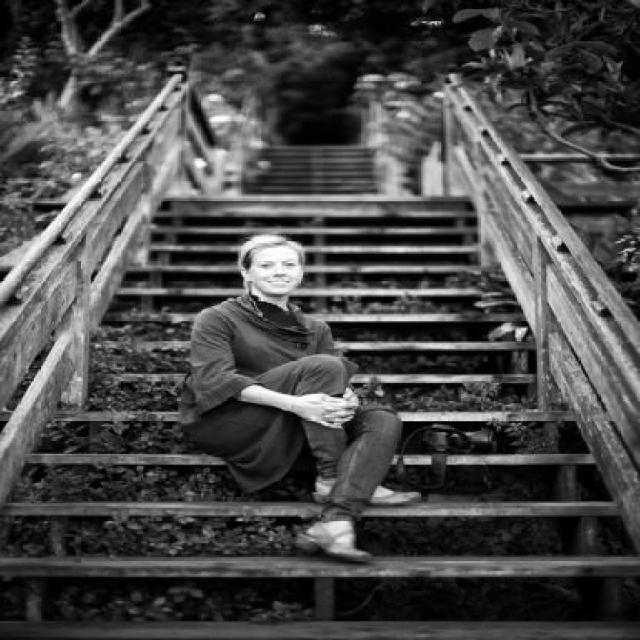stair: (0, 194, 640, 640), (232, 141, 378, 197)
